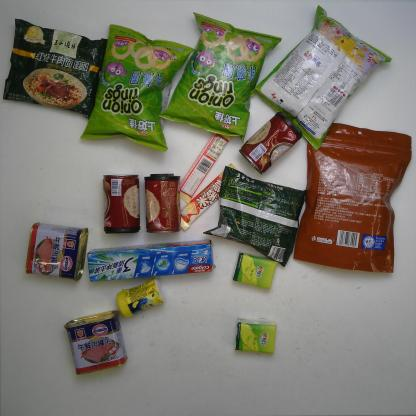Canned Food: (60, 306, 130, 379), (238, 110, 305, 178), (22, 222, 92, 283), (99, 171, 142, 236), (143, 170, 184, 238)
Chocolate: (169, 123, 235, 204), (176, 160, 242, 235)
Dried Food: (288, 119, 414, 278)
Gum: (113, 278, 166, 321)
Instant Noodles: (1, 15, 110, 123), (200, 164, 311, 267)
Personal Hygiene: (85, 233, 218, 288)
Puffed Food: (249, 2, 393, 154), (158, 10, 284, 144), (75, 20, 197, 154)
Tissue: (229, 248, 281, 292), (233, 314, 278, 358)
